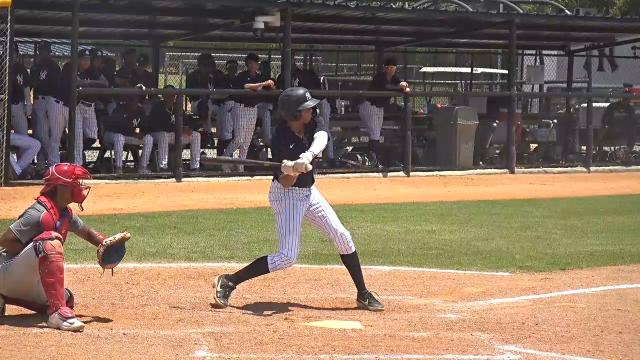baseball bat: (200, 156, 282, 170)
